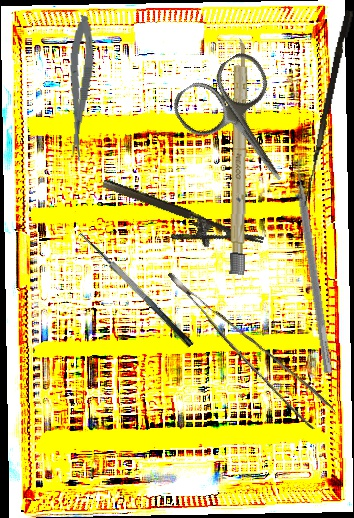Hook Surgical: (303, 9, 354, 209)
Iris Scissors: (166, 46, 320, 208)
Micro Scissor: (61, 14, 98, 162)
Needle Holder: (93, 176, 265, 270)
Scalpel Handle: (229, 38, 249, 275)
Spatula Surgical: (71, 226, 195, 358), (289, 153, 343, 374)
Tissue Forceps: (167, 248, 336, 438)
